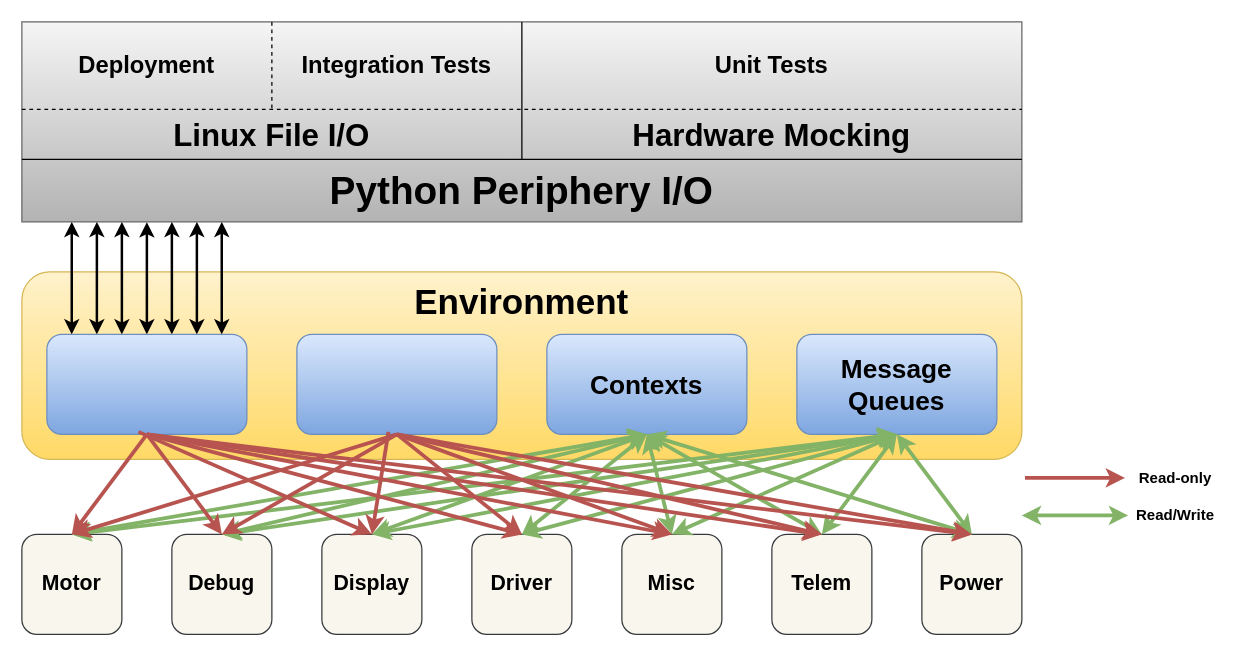
Some shapes in this 1236 by 656 pixel diagram are drawn without their labels. The shapes that lost their labels are listed below. From the top down, each one's centre as x and y in pixels, then its label:
At (x=146, y=383): "Peripheries".
At (x=396, y=383): "Settings".
